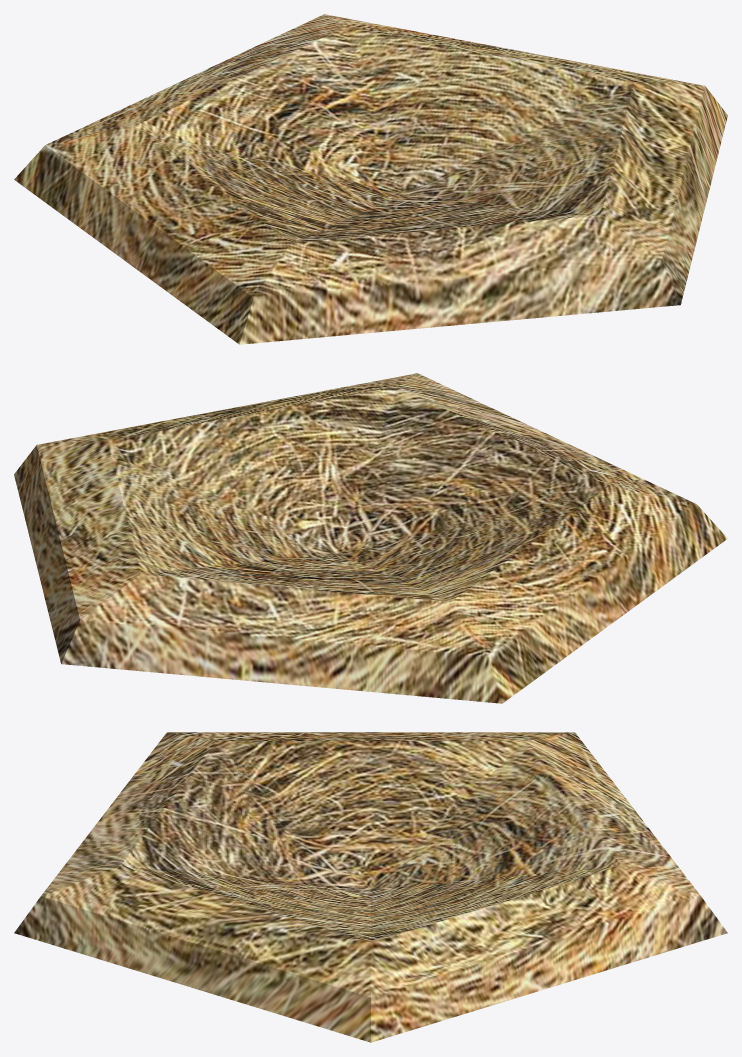
File: dinoNest.fbx
3 renders of one model, top to bottom at view 1: azimuth 30°, elevation 25°; view 2: azimuth 150°, elevation 25°; view 3: azimuth 270°, elevation 25°, orthographic. The views are drawn at different scales.
Parts seen in each view (by area): view 1: Nest; view 2: Nest; view 3: Nest.
Boxes of the visible parts, left/top/right/bottom form: Nest: left=14, top=14, right=727, bottom=344; Nest: left=14, top=373, right=727, bottom=703; Nest: left=14, top=732, right=727, bottom=1042.
Size of the model in its own units: 1.5 by 0.1346 by 1.58.
